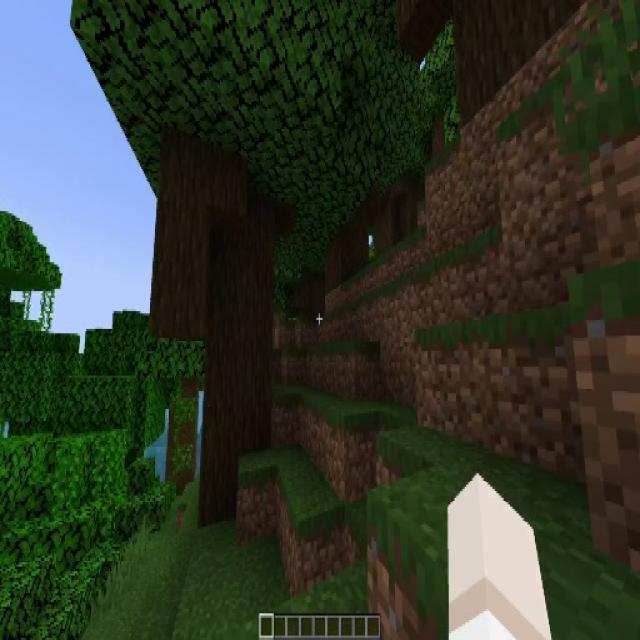dark_oak: (116, 0, 320, 519)
dark_oak_log: (156, 138, 270, 519), (375, 165, 421, 250), (331, 204, 368, 284)
jungle_log: (166, 382, 198, 491)
